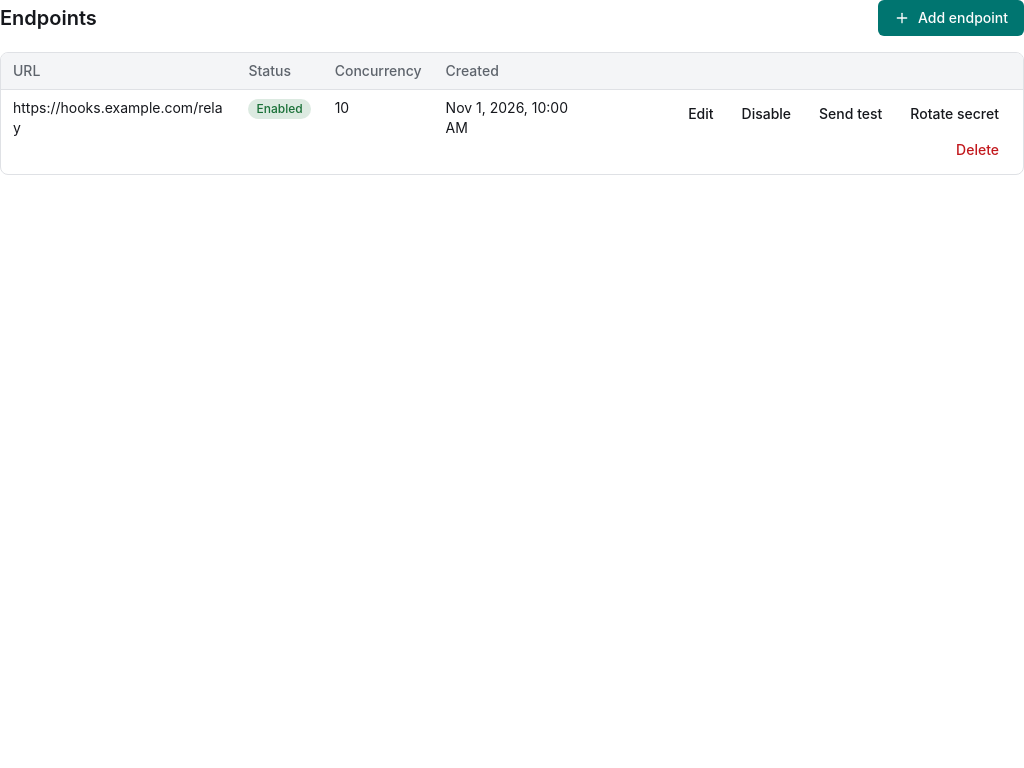
endpoints: create › shows the signing secret once, then it is gone from the page and from every cache
Expected: the link "https://hooks.example.com/relay" is shown, [13,99,223,136]
Step 1. Click the button "Add endpoint" → (951, 18), box [878,0,1023,36]
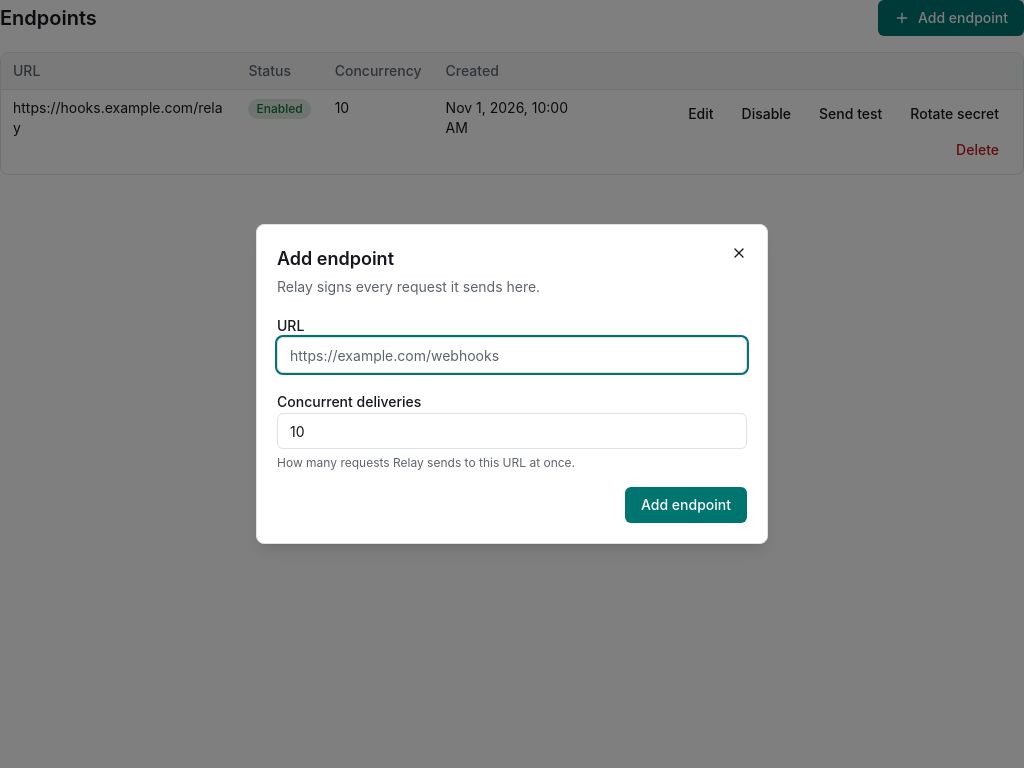
Step 2. Type "https://new.example.com/hook" into the field labelled "URL" → (512, 355), box [277,337,747,373]
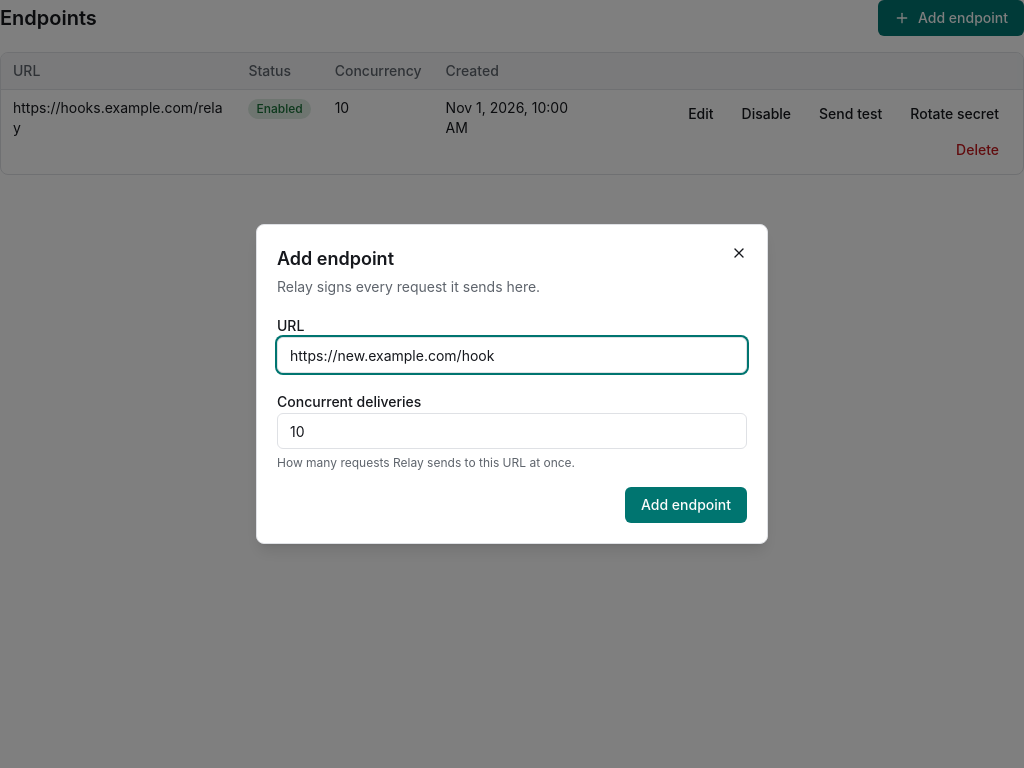
Step 3. Click the button "Add endpoint" → (686, 505), box [625,487,747,523]
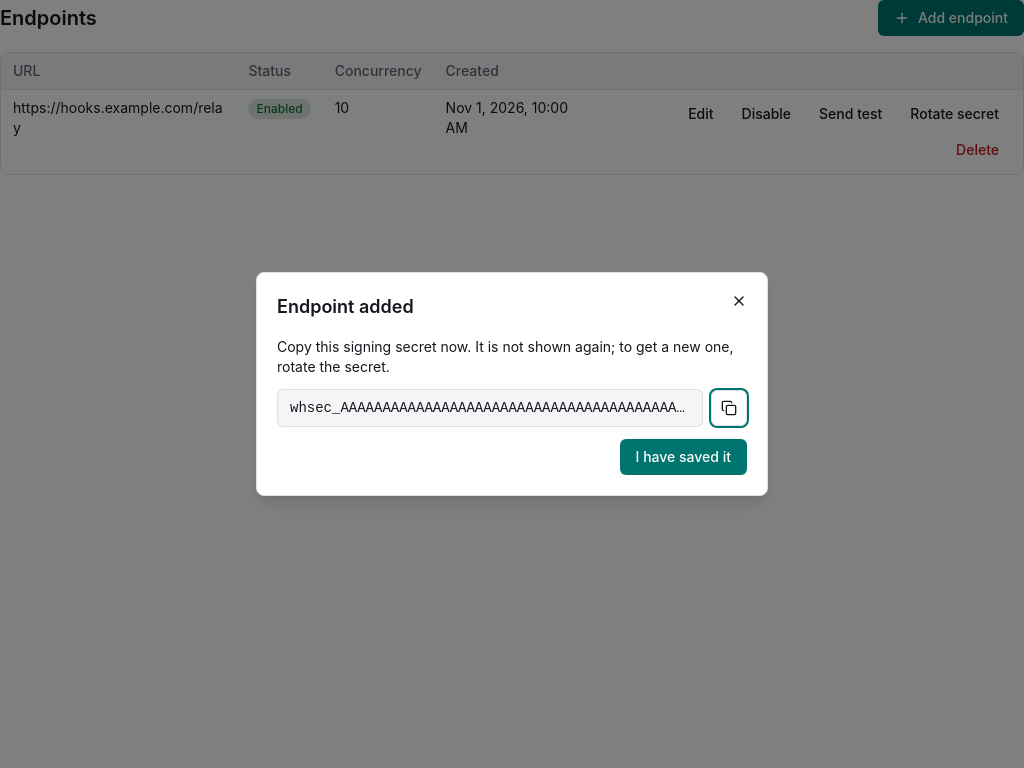
Step 4. Click the button "I have saved it" → (683, 457), box [620,439,747,475]
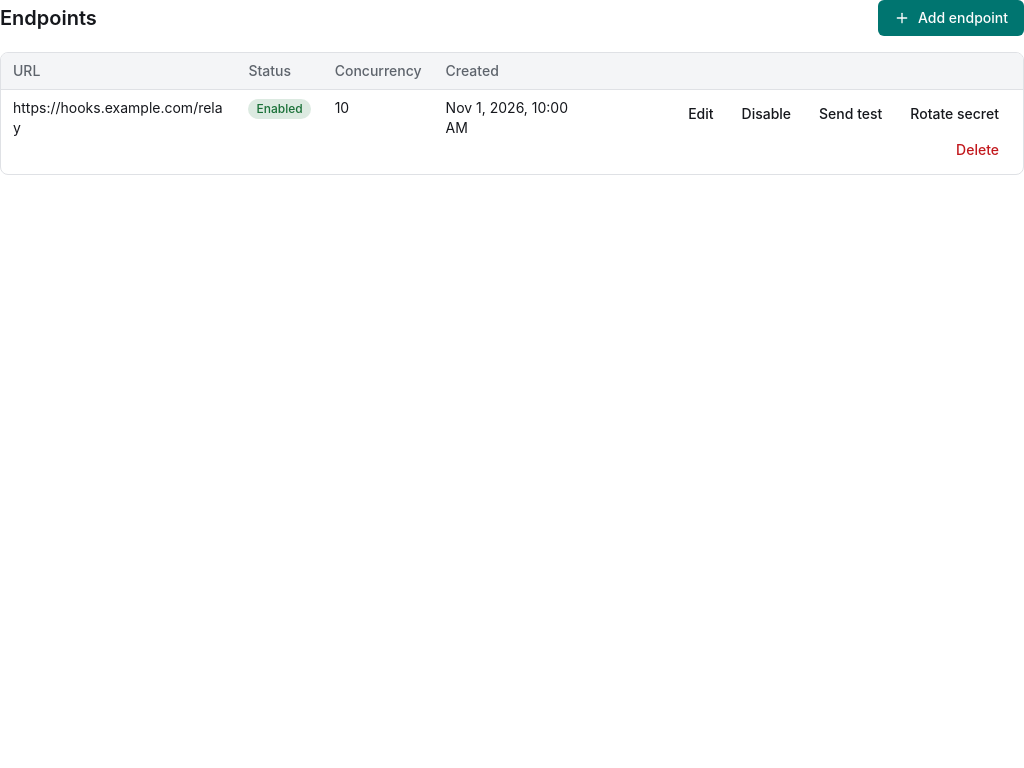
Expected: the dialog is gone
